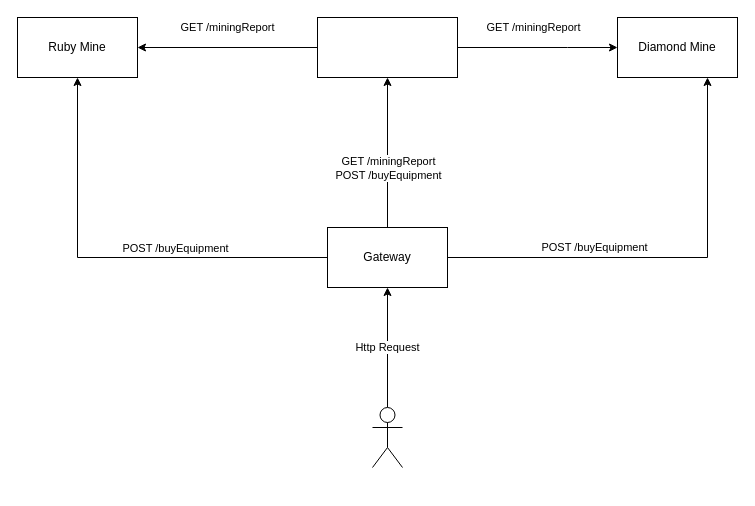
This 755x506 diagram has some shape labels left out. The box of each missing label's shape, as (x1, y1, x2, y2) in pixels:
Actor: (372, 406, 402, 468)
Operations: (316, 16, 458, 78)
